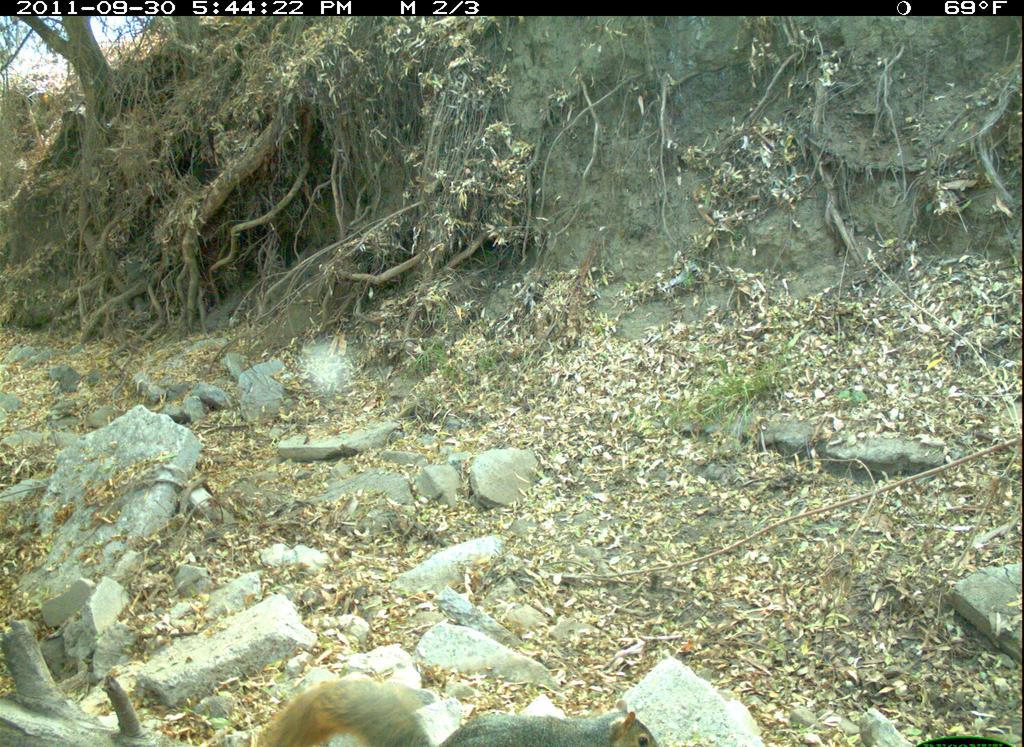squirrel: (235, 660, 680, 747)
